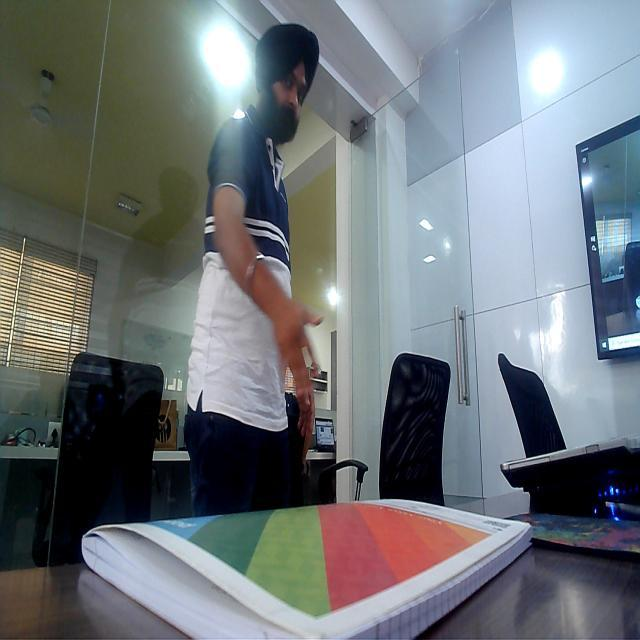without_gloves: (274, 294, 326, 414)
